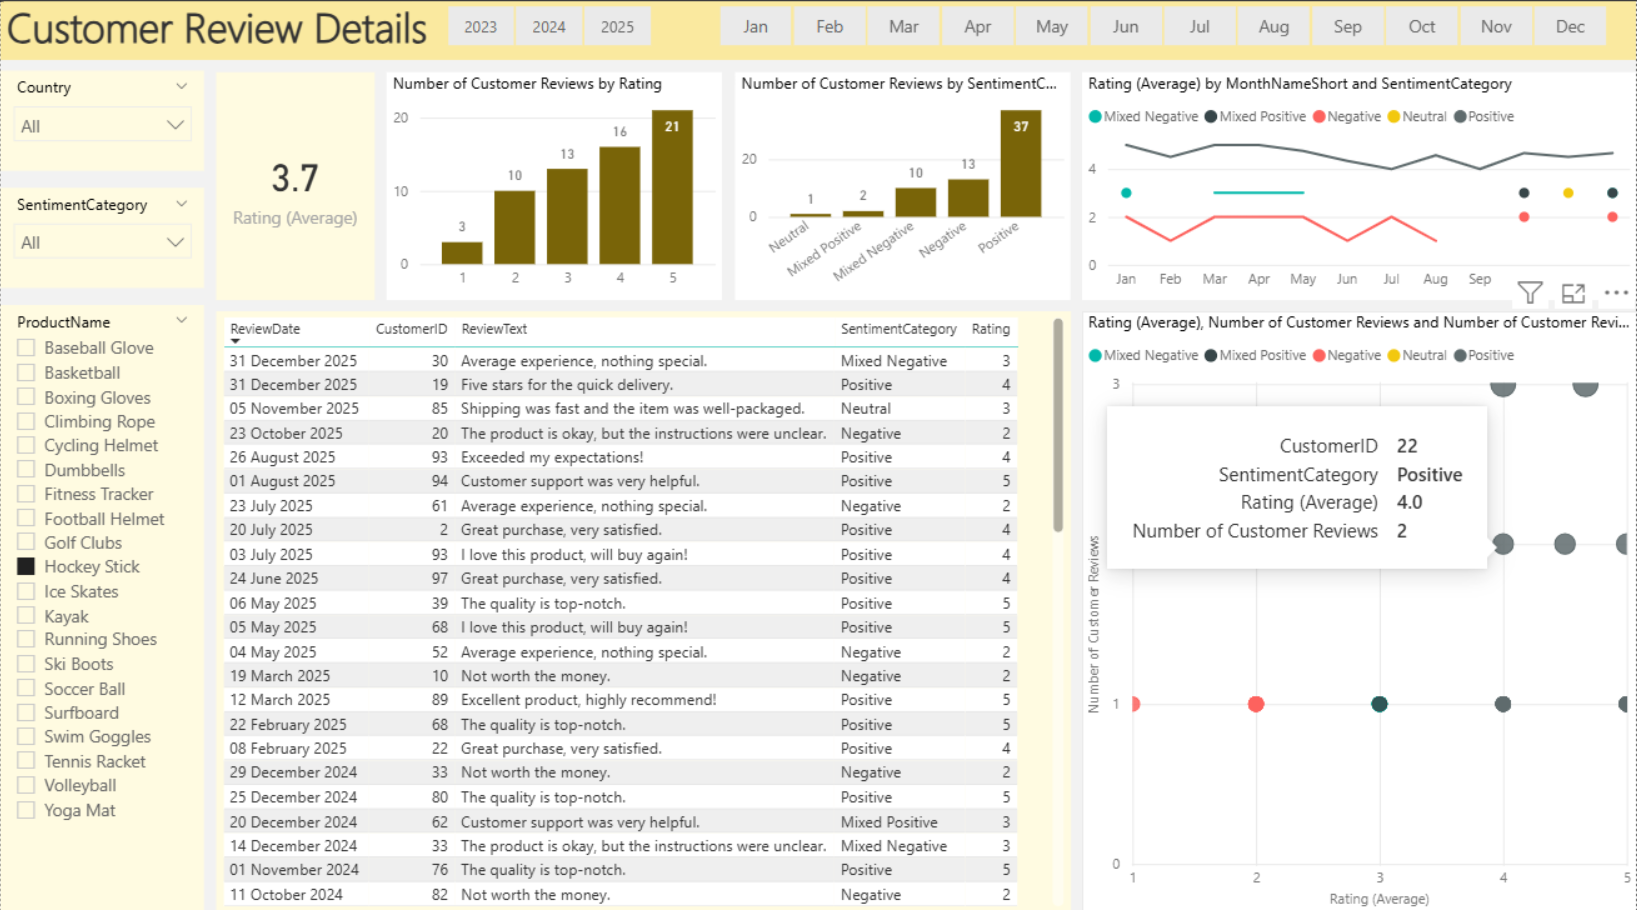

The dashboard page shown, as its layout file describes it:
{"tool":"powerbi","page":{"name":"Customer Review Details","canvas":[1280,720],"ordinal":3},"visuals":[{"type":"textbox","box":[0,0,1280,52.6],"z":0},{"type":"slicer","fields":{"Values":["dim_products.ProductName"]},"box":[0,244.2,159.3,475.3],"z":1000},{"type":"card","fields":{"Values":["_Calculations.Rating (Average)"]},"box":[168.5,61.9,123.8,178.5],"z":2000},{"type":"slicer","fields":{"Values":["Calendar.MonthNameShort"]},"box":[536.8,4.1,743.2,44.4],"z":3000},{"type":"lineChart","fields":{"Category":["Calendar.MonthNameShort"],"Y":["_Calculations.Rating (Average)"],"Series":["fact_customer_reviews_with_sentiment.SentimentCategory"]},"box":[846.2,62,434.1,178.4],"z":4000},{"type":"slicer","fields":{"Values":["Calendar.Year"]},"box":[324.1,4.1,208.5,44.4],"z":5000},{"type":"tableEx","fields":{"Values":["fact_customer_reviews_with_sentiment.ReviewDate","fact_customer_reviews_with_sentiment.CustomerID","fact_customer_reviews_with_sentiment.ReviewText","fact_customer_reviews_with_sentiment.SentimentCategory","fact_customer_reviews_with_sentiment.Rating"]},"box":[168.5,249.5,668.4,470.8],"z":6000},{"type":"columnChart","fields":{"Category":["fact_customer_reviews_with_sentiment.Rating"],"Y":["_Calculations.Number of Customer Reviews"]},"box":[302.4,62,262.4,178.4],"z":7000},{"type":"columnChart","fields":{"Category":["fact_customer_reviews_with_sentiment.SentimentCategory"],"Y":["_Calculations.Number of Customer Reviews"]},"box":[574.3,62,262.4,178.4],"z":8000},{"type":"slicer","fields":{"Values":["dim_customers.Country"]},"box":[0,61.4,159.3,78.3],"z":9000},{"type":"slicer","fields":{"Values":["fact_customer_reviews_with_sentiment.SentimentCategory"]},"box":[0,152.8,159.3,78.3],"z":10000},{"type":"scatterChart","fields":{"Category":["dim_customers.CustomerID"],"Series":["fact_customer_reviews_with_sentiment.SentimentCategory"],"X":["_Calculations.Rating (Average)"],"Y":["_Calculations.Number of Customer Reviews"],"Size":["_Calculations.Number of Customer Reviews"]},"box":[846,249.5,434.4,470.8],"z":11000}]}

Visuals, with their boxes in screenshot pixels (x1, y1, x2, y2), scaled from the page's 1280x720 canvas onto the 1637x910 screenshot:
textbox: (x1=0, y1=0, x2=1636, y2=66)
slicer - dim_products.ProductName: (x1=0, y1=309, x2=204, y2=909)
card - _Calculations.Rating (Average): (x1=215, y1=78, x2=374, y2=304)
slicer - Calendar.MonthNameShort: (x1=687, y1=5, x2=1636, y2=61)
lineChart - Calendar.MonthNameShort x _Calculations.Rating (Average): (x1=1082, y1=78, x2=1636, y2=304)
slicer - Calendar.Year: (x1=414, y1=5, x2=681, y2=61)
tableEx - fact_customer_reviews_with_sentiment.ReviewDate x fact_customer_reviews_with_sentiment.CustomerID: (x1=215, y1=315, x2=1070, y2=909)
columnChart - fact_customer_reviews_with_sentiment.Rating x _Calculations.Number of Customer Reviews: (x1=387, y1=78, x2=722, y2=304)
columnChart - fact_customer_reviews_with_sentiment.SentimentCategory x _Calculations.Number of Customer Reviews: (x1=734, y1=78, x2=1070, y2=304)
slicer - dim_customers.Country: (x1=0, y1=78, x2=204, y2=177)
slicer - fact_customer_reviews_with_sentiment.SentimentCategory: (x1=0, y1=193, x2=204, y2=292)
scatterChart - dim_customers.CustomerID x fact_customer_reviews_with_sentiment.SentimentCategory: (x1=1082, y1=315, x2=1636, y2=909)
